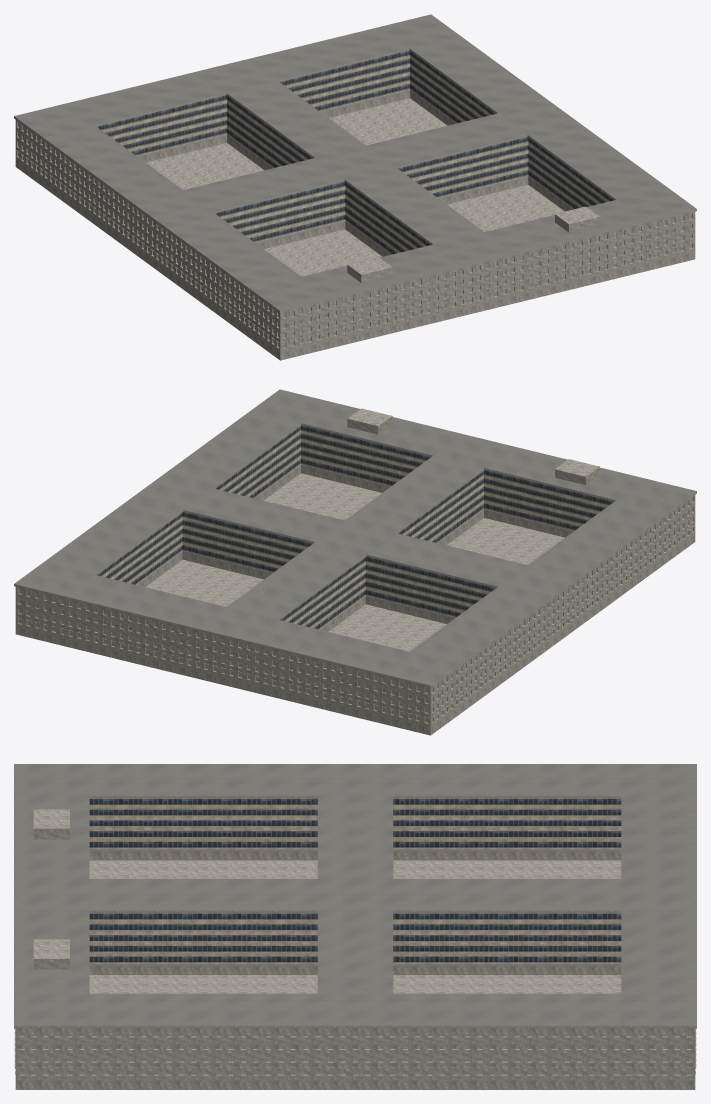
Rendered from labor_perkins.glb.
3 renders of one model, top to bottom at view 1: azimuth 30°, elevation 25°; view 2: azimuth 150°, elevation 25°; view 3: azimuth 270°, elevation 25°, orthographic. The views are drawn at different scales.
Visible parts, largest first — view 1: labor_perkins; view 2: labor_perkins; view 3: labor_perkins.
Part boxes in pixels (x1,y1,x2,y2): labor_perkins: (14, 14, 696, 360); labor_perkins: (14, 389, 696, 735); labor_perkins: (14, 764, 696, 1089).
Bounding box in the file's own units: 188 × 25.41 × 208.
4 materials, 4 textured.
